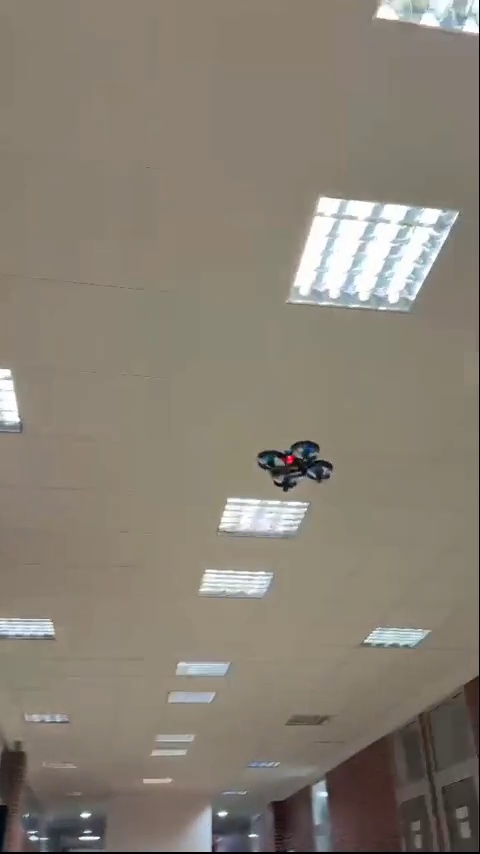drone: (253, 440, 337, 488)
